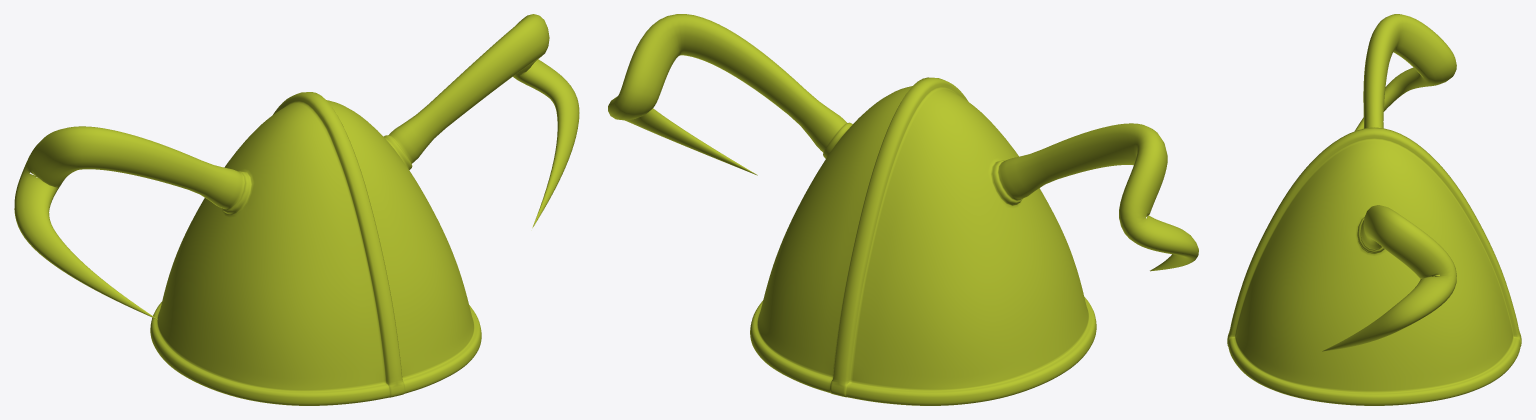
Rendered from vikings_helmet.glb.
3 views of the same model, side by side, from view 1: azimuth 30°, elevation 25°; view 2: azimuth 150°, elevation 25°; view 3: azimuth 270°, elevation 25° (orthographic). The views are drawn at different scales.
Visible parts, largest first — view 1: Box001; view 2: Box001; view 3: Box001.
Part boxes in pixels (<box>): Box001: <box>14,14,579,405</box>; Box001: <box>608,14,1198,405</box>; Box001: <box>1227,14,1521,405</box>.
Bounding box in the file's own units: 100 × 44.46 × 51.32.
